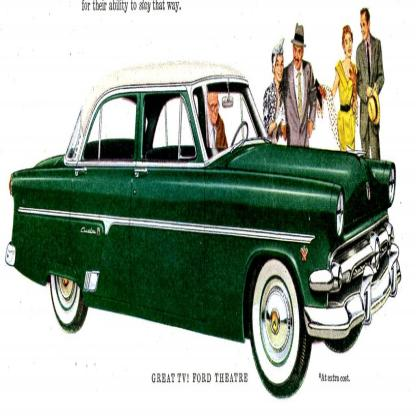Car: (5, 60, 403, 401)
